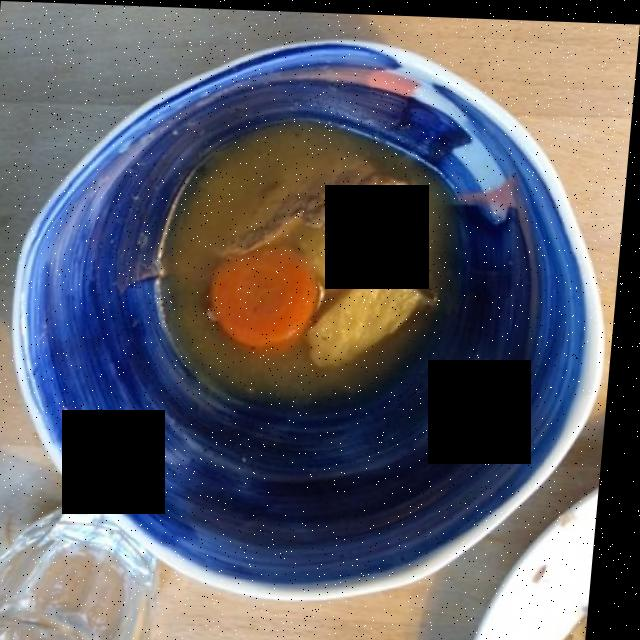carrot-raw: (221, 247, 325, 344)
celeriac: (308, 208, 432, 371)
